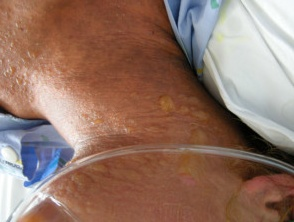SJS-TEN: (31, 80, 276, 222)
